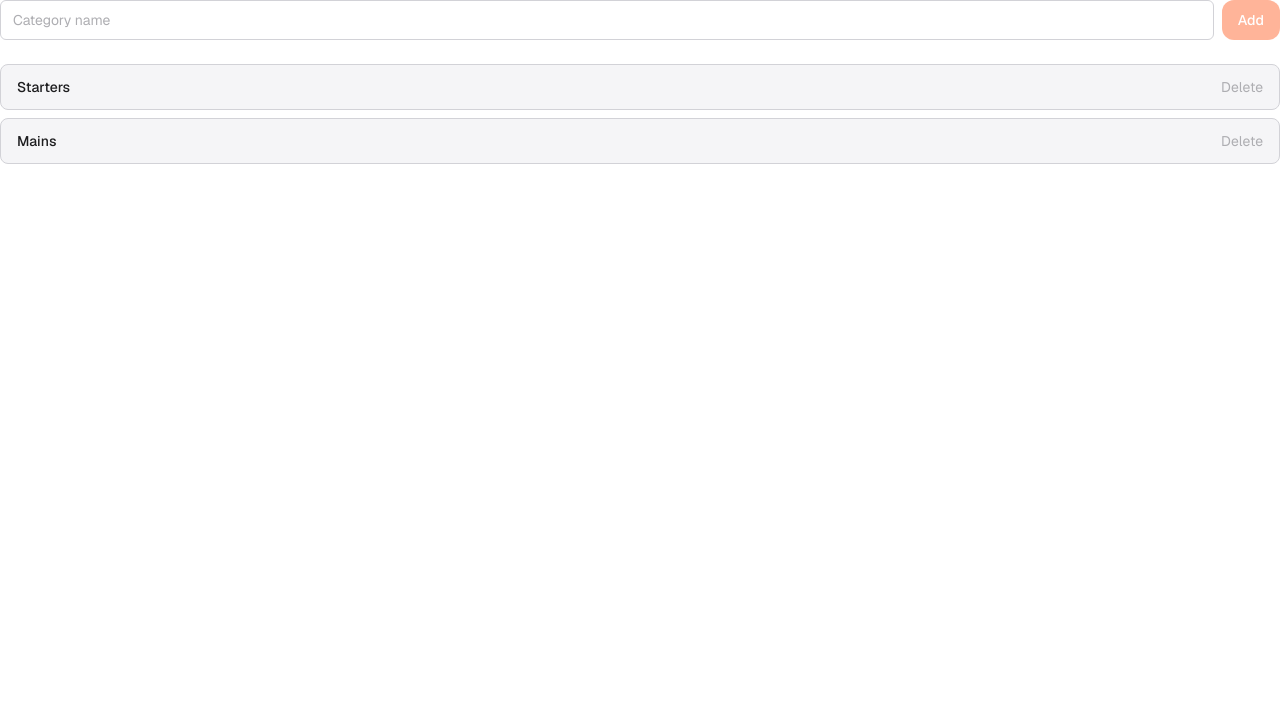
Test: CategoryManager › closes dialog on cancel without deleting
Click the 1st button "Delete".
click(1242, 87)  # box left=1221, top=77, right=1263, bottom=97
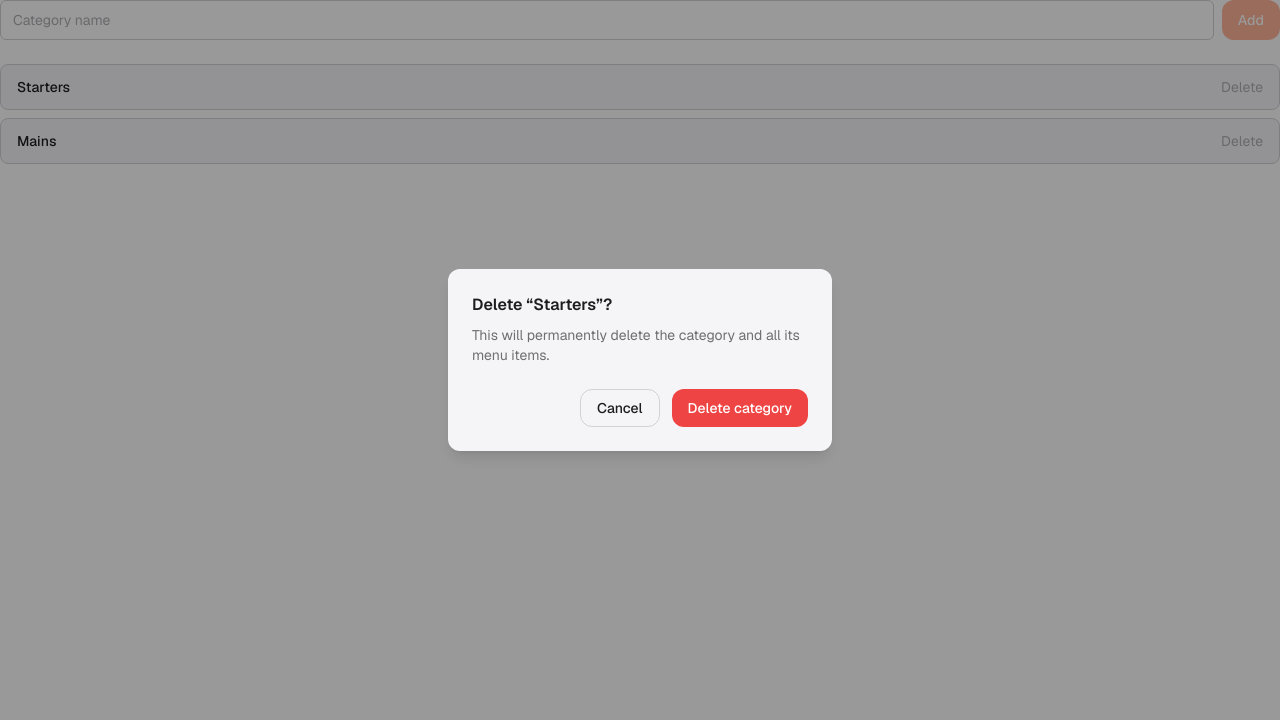
Click the button "Cancel".
click(620, 408)  # box left=580, top=389, right=660, bottom=427
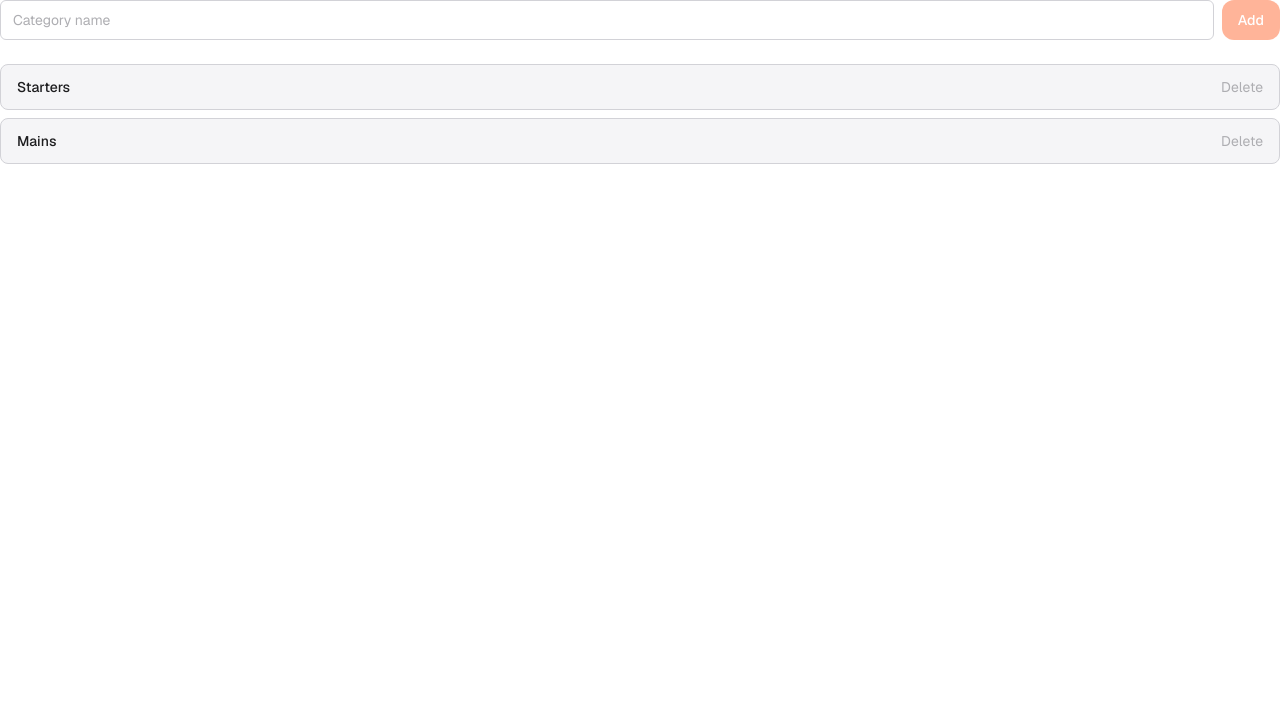
Expected: the dialog is gone
